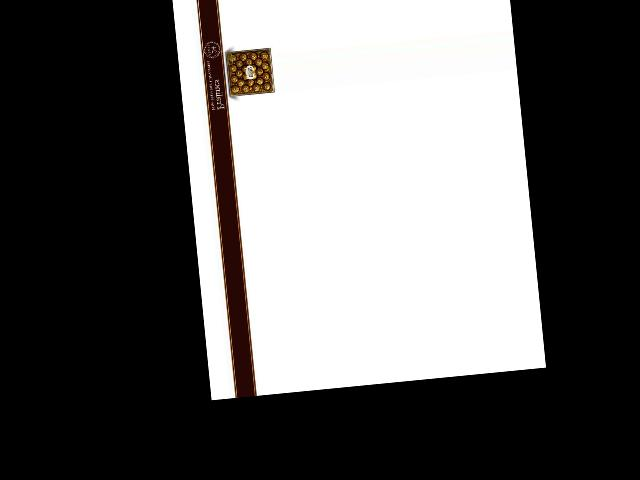chocolate: (222, 44, 278, 98)
